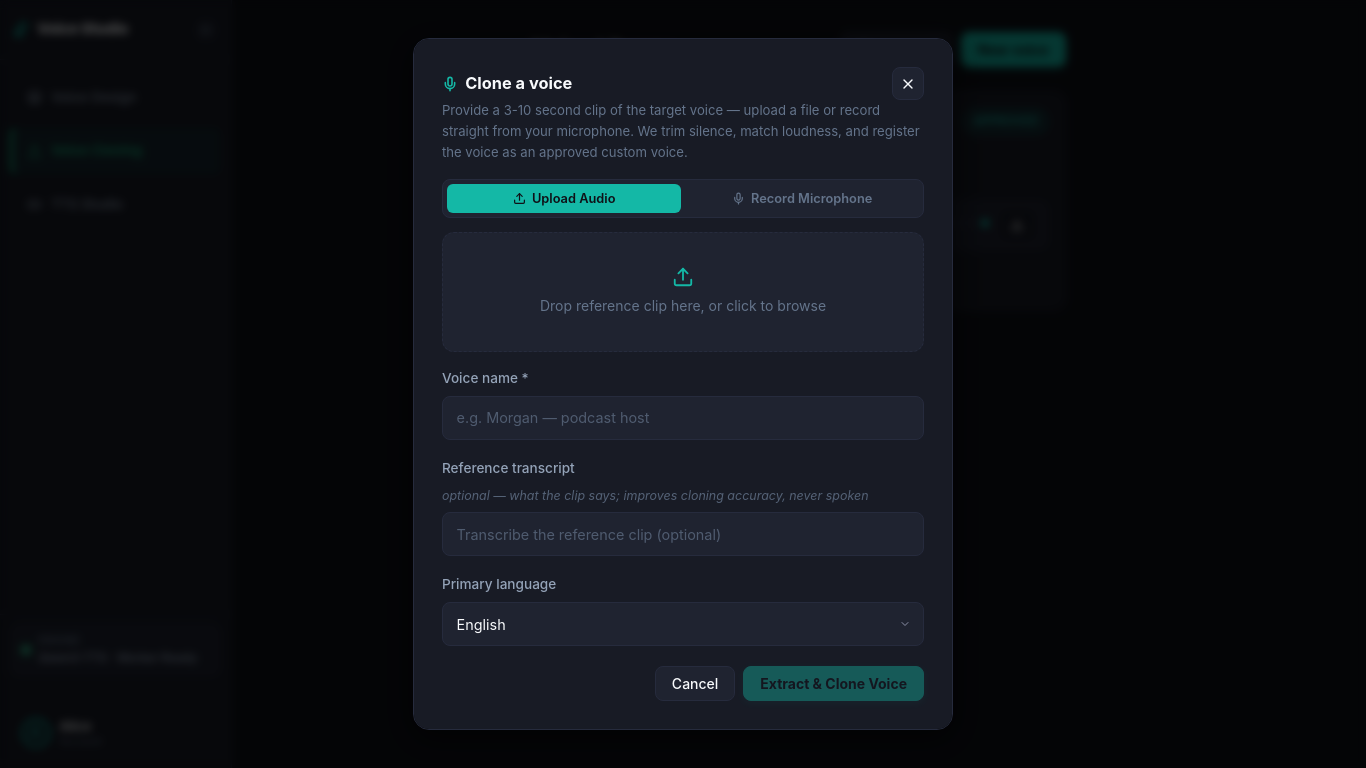
Test case: App — workspace navigation shell (Phase 8a) › opens the Voice Cloning modal from ?action=clone and cleans the query on close
Expected: the dialog "Clone a voice" is shown, [413,38,953,730]
Click the button named "Close voice cloning".
click(908, 84)  # box [892,67,924,100]
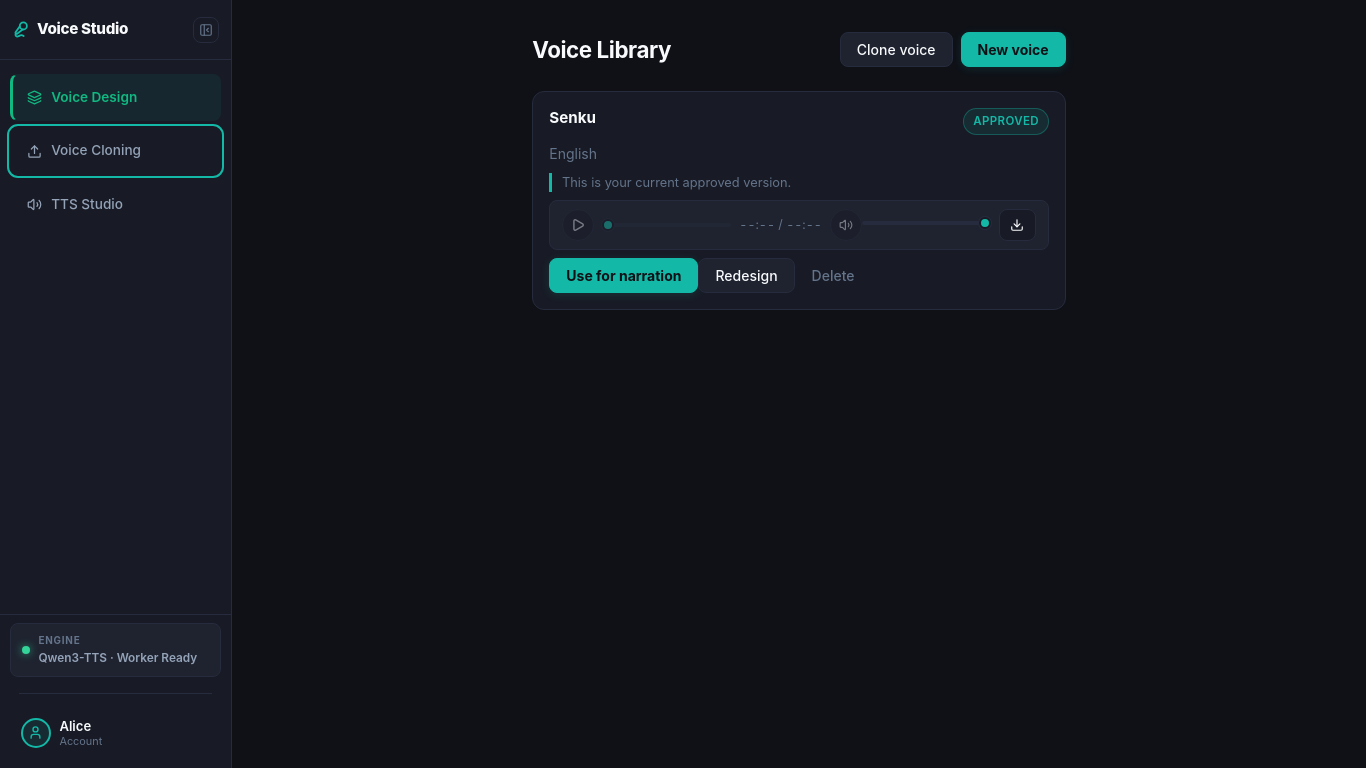
Expected: the heading "Clone a voice" is gone
